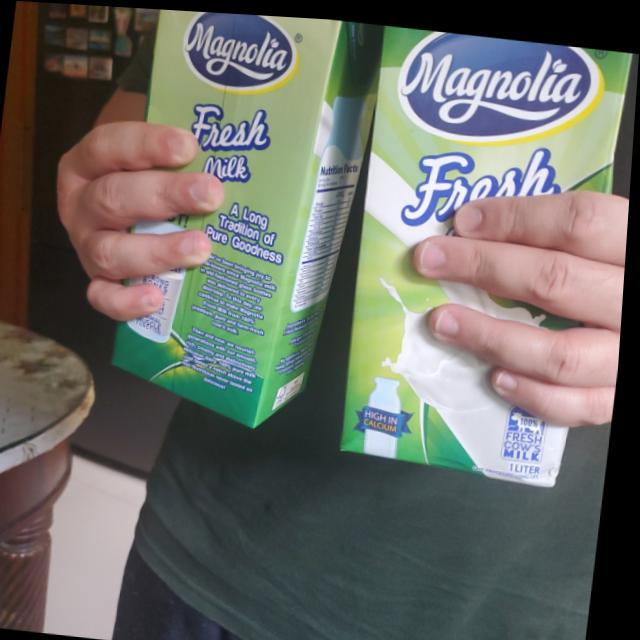milk: (339, 20, 634, 486), (101, 6, 383, 449)
